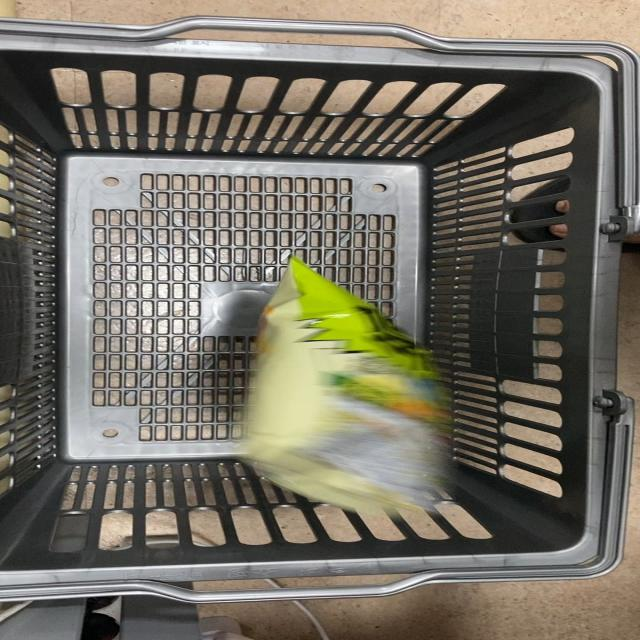ggobukchip: (211, 249, 457, 546)
